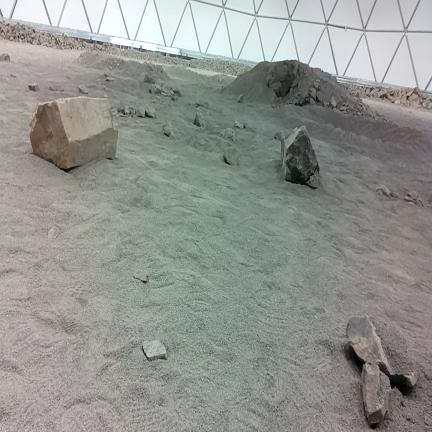Rock: (30, 97, 118, 168), (347, 314, 417, 394), (347, 314, 392, 375), (281, 126, 319, 184), (362, 363, 392, 426), (266, 62, 298, 97), (391, 373, 417, 394), (142, 340, 167, 361), (404, 191, 424, 206), (224, 147, 239, 165), (306, 171, 320, 189), (404, 196, 424, 207), (162, 122, 175, 138), (222, 128, 236, 141), (134, 271, 148, 283), (48, 226, 59, 241), (376, 185, 390, 196), (194, 112, 205, 126), (140, 73, 154, 83), (149, 84, 162, 94), (274, 130, 285, 141), (124, 106, 135, 116), (28, 83, 40, 92), (195, 102, 210, 109), (145, 107, 155, 117), (377, 89, 387, 99), (136, 107, 145, 117), (370, 88, 380, 97), (407, 191, 418, 199), (49, 85, 63, 91), (155, 78, 164, 87), (79, 85, 88, 94), (330, 97, 337, 108), (410, 99, 419, 107), (174, 89, 183, 97), (316, 91, 322, 103), (310, 87, 316, 99), (0, 54, 10, 61), (404, 196, 415, 202), (410, 94, 419, 101), (235, 121, 244, 128), (114, 108, 124, 114), (168, 88, 175, 96), (160, 90, 168, 97), (406, 89, 413, 97), (314, 80, 320, 89), (340, 106, 347, 113), (365, 88, 371, 96), (413, 87, 419, 94), (310, 98, 316, 105), (120, 112, 128, 117), (238, 94, 243, 102), (391, 192, 399, 197), (376, 190, 382, 196), (112, 109, 118, 115), (104, 71, 110, 77), (422, 101, 427, 108), (254, 134, 259, 141), (427, 199, 431, 207), (106, 77, 114, 81), (427, 102, 431, 109), (88, 85, 97, 88), (171, 96, 176, 101), (151, 99, 156, 103), (109, 65, 113, 70), (102, 85, 106, 90), (10, 74, 16, 77)
